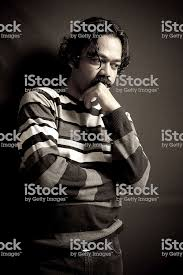Indian_Male: (80, 31, 123, 93)
